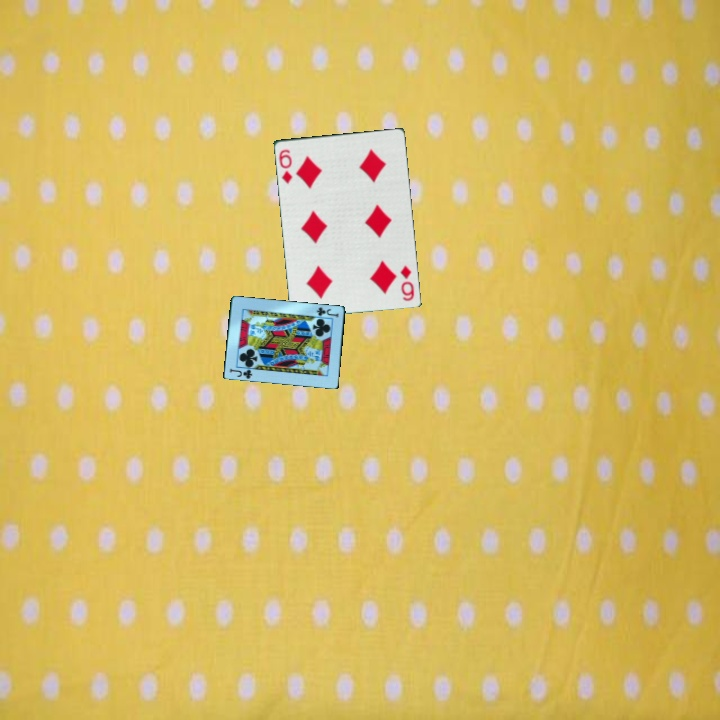6d: (396, 262, 417, 303), (275, 145, 295, 186)
Jc: (226, 365, 255, 381), (314, 303, 341, 320)
